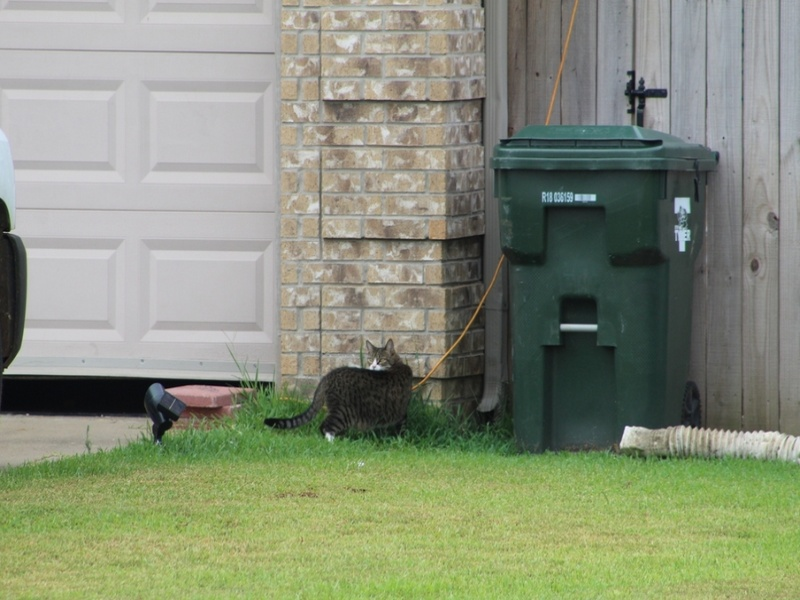cat: (264, 337, 417, 442)
